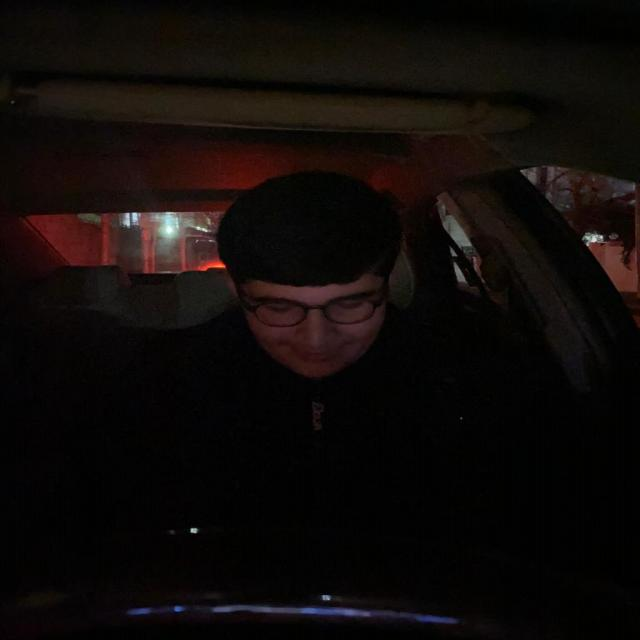drowsy: (229, 191, 407, 383)
